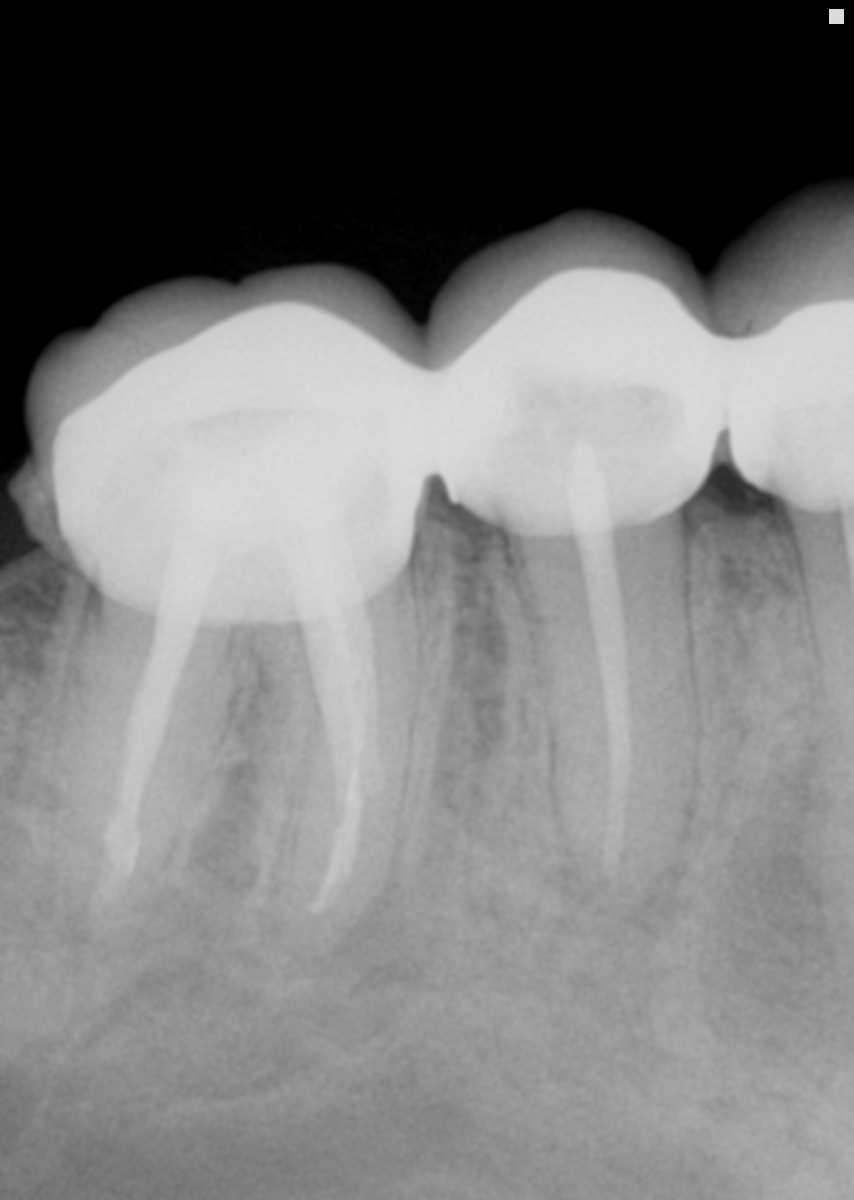Apical Lesion: (183, 883, 422, 1082), (705, 759, 854, 1052), (560, 873, 679, 949)
Distal Root: (49, 597, 247, 952)
Main Root: (513, 520, 701, 905), (798, 512, 854, 900)
Mesial Root: (258, 597, 417, 953)
Root Canal Filling: (113, 526, 226, 814), (566, 459, 633, 887), (292, 582, 379, 794)
